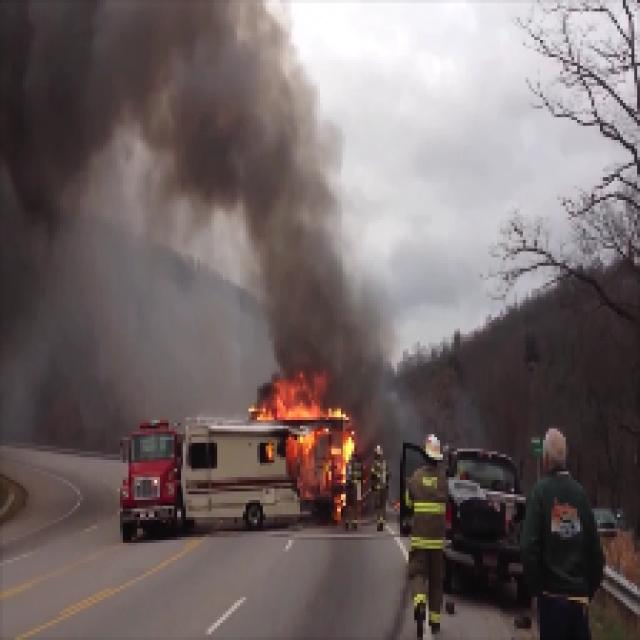fire: (258, 374, 356, 515)
smoke: (0, 5, 324, 249), (257, 258, 400, 367)
